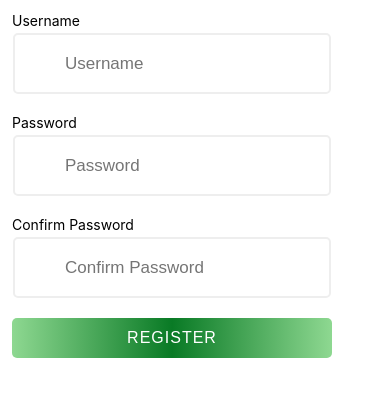
Test case: Authentication Component › shows validation errors on invalid input
Type "abc" into the field with placeholder "Username" at (172,64), box [13, 33, 331, 94]
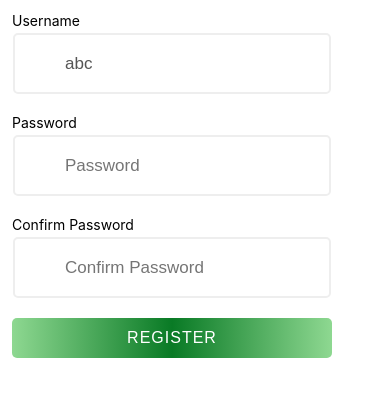
Type "12345" into the password field with placeholder "Password" at (172,166), box [13, 135, 331, 196]
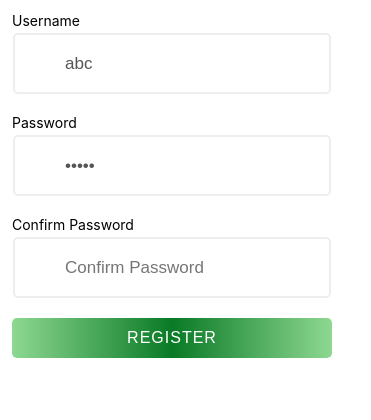
Type "123" into the password field with placeholder "Confirm Password" at (172,268), box [13, 237, 331, 298]
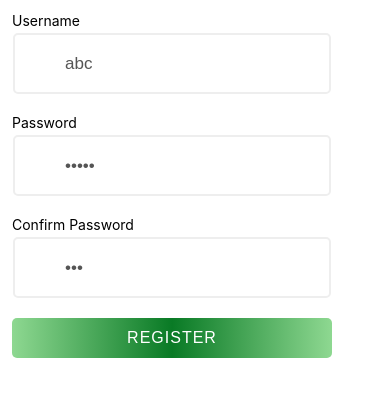
Click the button "Register" at (172,338), box [12, 318, 332, 358]
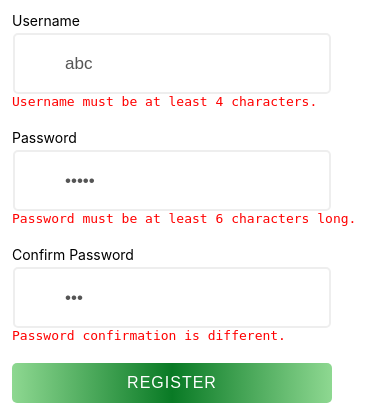
Expected: the text "Username must be at least 4 characters." is shown, [12, 94, 332, 109]
Expected: the text "Password must be at least 6 characters long." is shown, [12, 211, 332, 226]
Expected: the text "Password confirmation is different." is shown, [12, 328, 332, 343]
